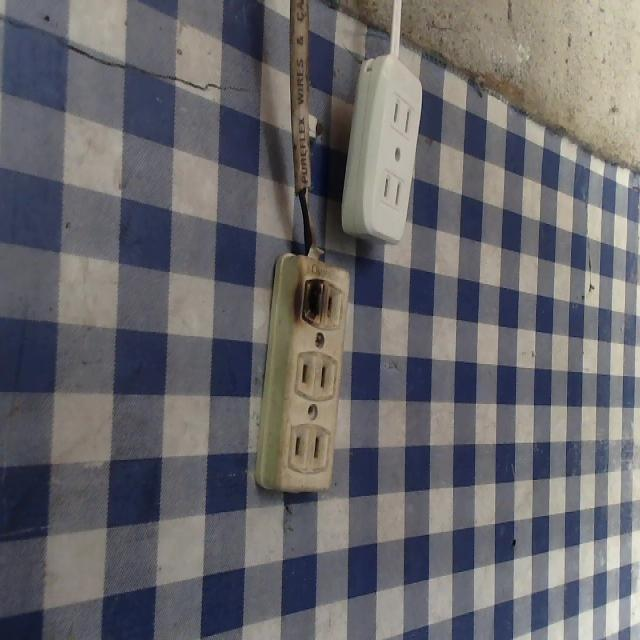-: (291, 272, 328, 333)
